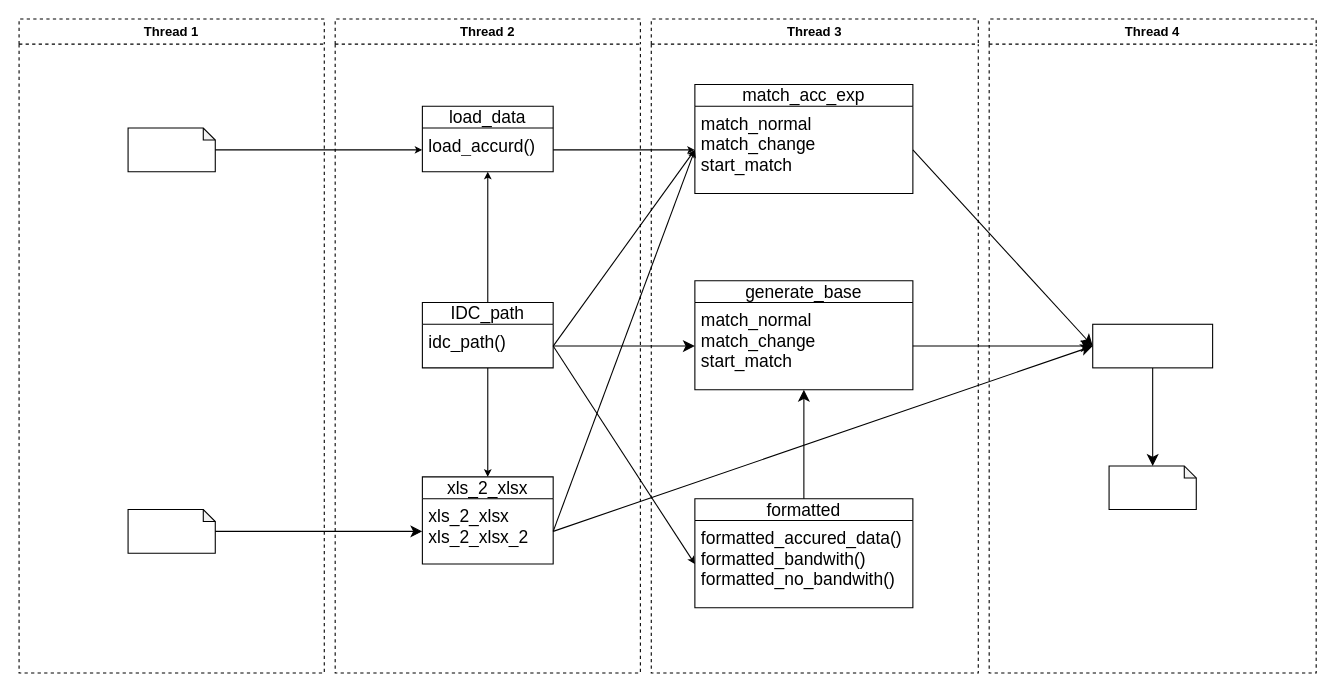
Image size: 1335x692. Some labels were removed from this diagram. The shapes that lost their labels are listed below. From the top down, each one's centre as x and y in pixels, then its label:
At point (171, 149): "预提表".
At point (1152, 345): "GUI".
At point (1152, 487): "ouput".
At point (171, 530): "input".
